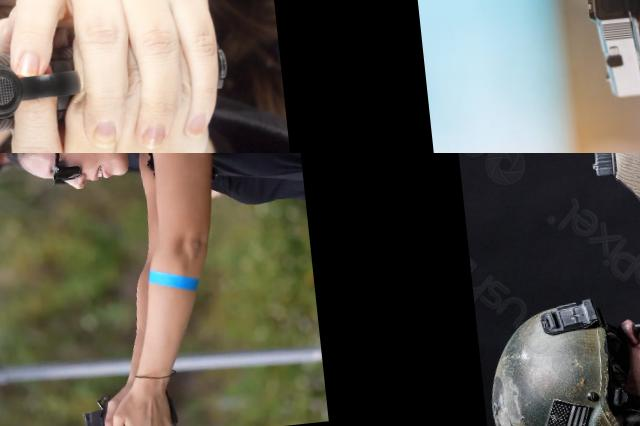handgun: (0, 22, 239, 143), (581, 0, 640, 104), (75, 383, 182, 426), (581, 153, 640, 197)
